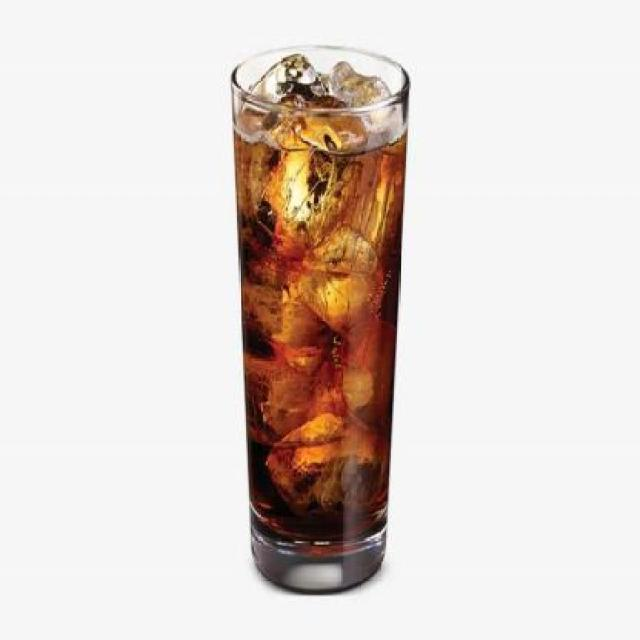Coke: (226, 42, 417, 596)
